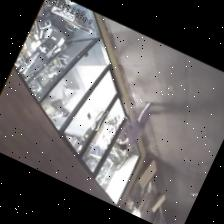person: (118, 101, 151, 149), (46, 84, 77, 116)
